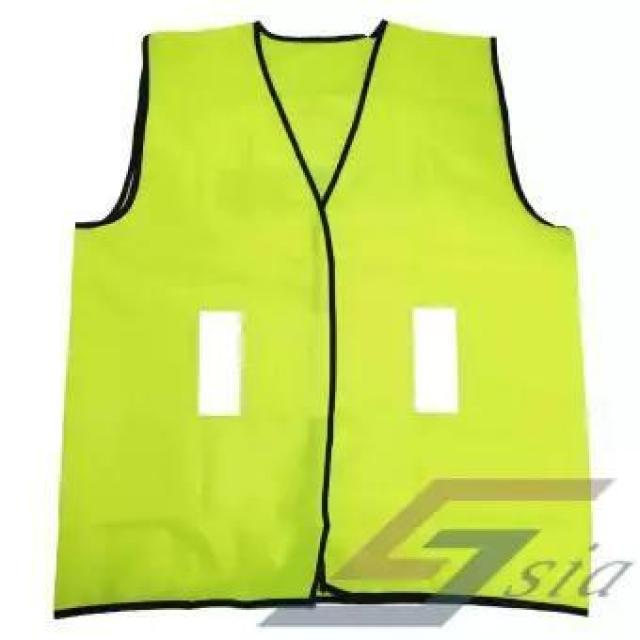Vest: (47, 15, 589, 621)
